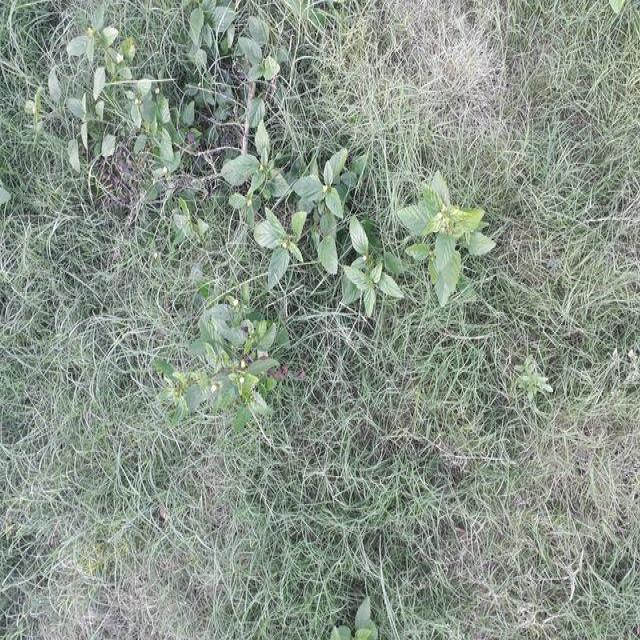weed: (161, 0, 391, 307), (14, 38, 211, 198), (386, 156, 492, 304), (162, 315, 294, 423), (514, 316, 562, 420), (329, 593, 380, 640)
